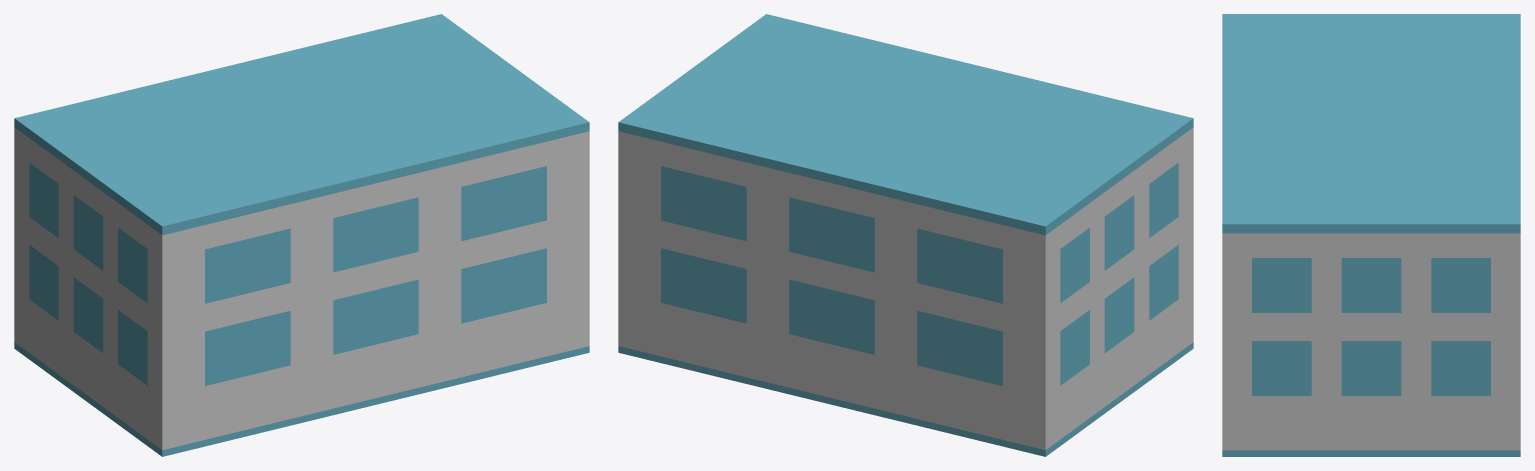
Rendered from Building 3.fbx.
3 views of the same model, side by side, from view 1: azimuth 30°, elevation 25°; view 2: azimuth 150°, elevation 25°; view 3: azimuth 270°, elevation 25° (orthographic).
Parts seen in each view (by area): view 1: pCube1; view 2: pCube1; view 3: pCube1.
Boxes of the visible parts, x1,y1,x2,y2 form: pCube1: (14,14,589,456); pCube1: (618,14,1193,456); pCube1: (1222,14,1520,456).
Size of the model in its own units: 19.65 by 10.13 by 11.78.
